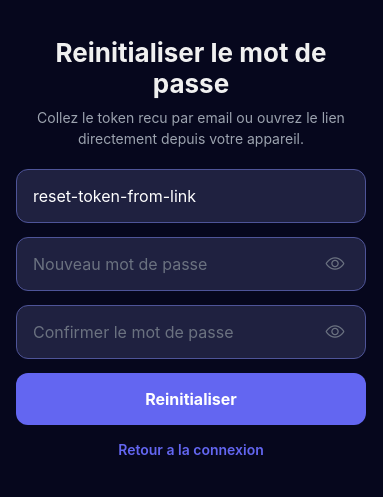
ResetPasswordScreen › shows error when passwords do not match
The width and height of the screenshot is (383, 497).
In the password field with test id "reset-password-input": (177, 264) [33, 238, 321, 290], type "Password123"
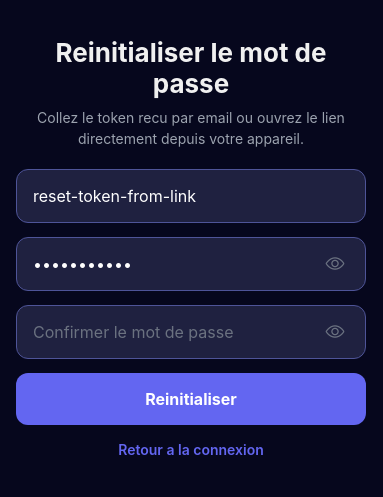
In the password field with test id "reset-confirm-password-input": (177, 332) [33, 306, 321, 358], type "Different123"
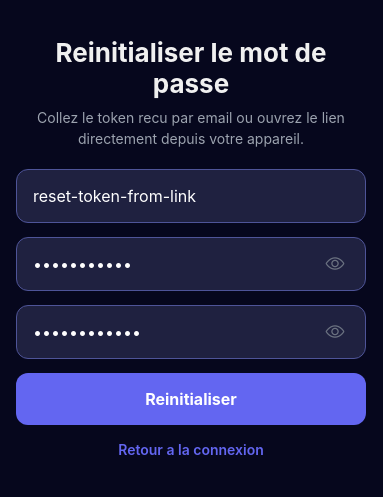
Click the element with test id "reset-submit-button": (191, 398) [16, 372, 366, 424]
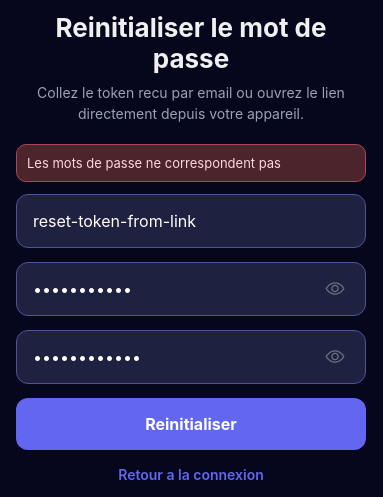
Check: the text "Les mots de passe ne correspondent pas" is shown, box [27, 154, 281, 170]
